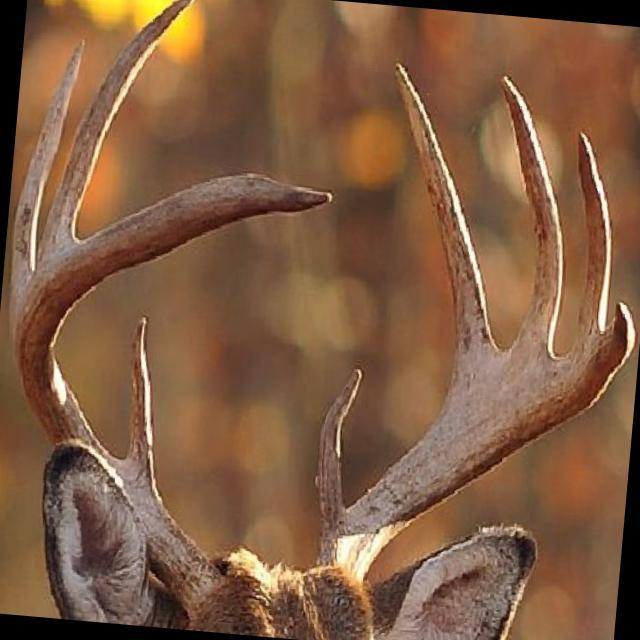L-F: (314, 301, 637, 582)
L-G1: (314, 366, 364, 529)
L-G2: (393, 58, 497, 364)
L-G3: (499, 73, 564, 353)
L-G4: (576, 131, 612, 338)
R-F: (11, 171, 334, 620)
R-G1: (127, 315, 154, 479)
R-G2: (8, 37, 86, 345)
R-G3: (37, 0, 193, 256)
